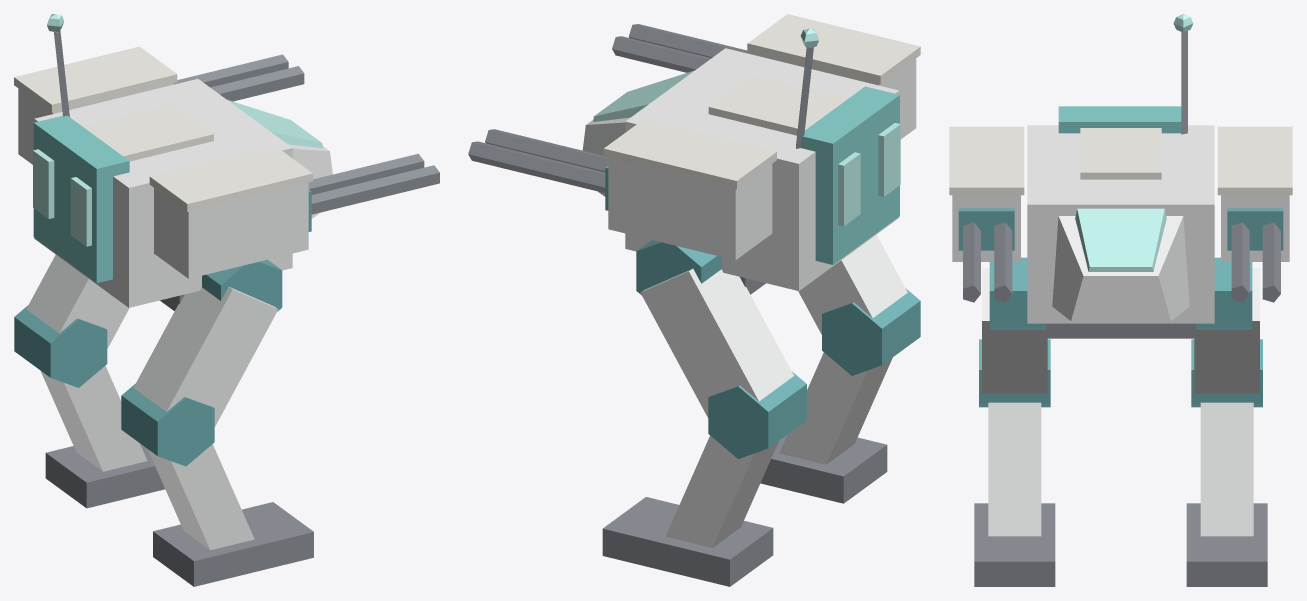
Rendered from army.glb.
3 views of the same model, side by side, from view 1: azimuth 30°, elevation 25°; view 2: azimuth 150°, elevation 25°; view 3: azimuth 270°, elevation 25° (orthographic). The views are drawn at different scales.
Parts seen in each view (by area): view 1: stellar_army; view 2: stellar_army; view 3: stellar_army.
Boxes of the visible parts, x1,y1,x2,y2 form: stellar_army: (14,14,439,586); stellar_army: (468,14,920,586); stellar_army: (949,14,1292,586).
Bounding box in the file's own units: 0.624 × 0.9995 × 0.624.
